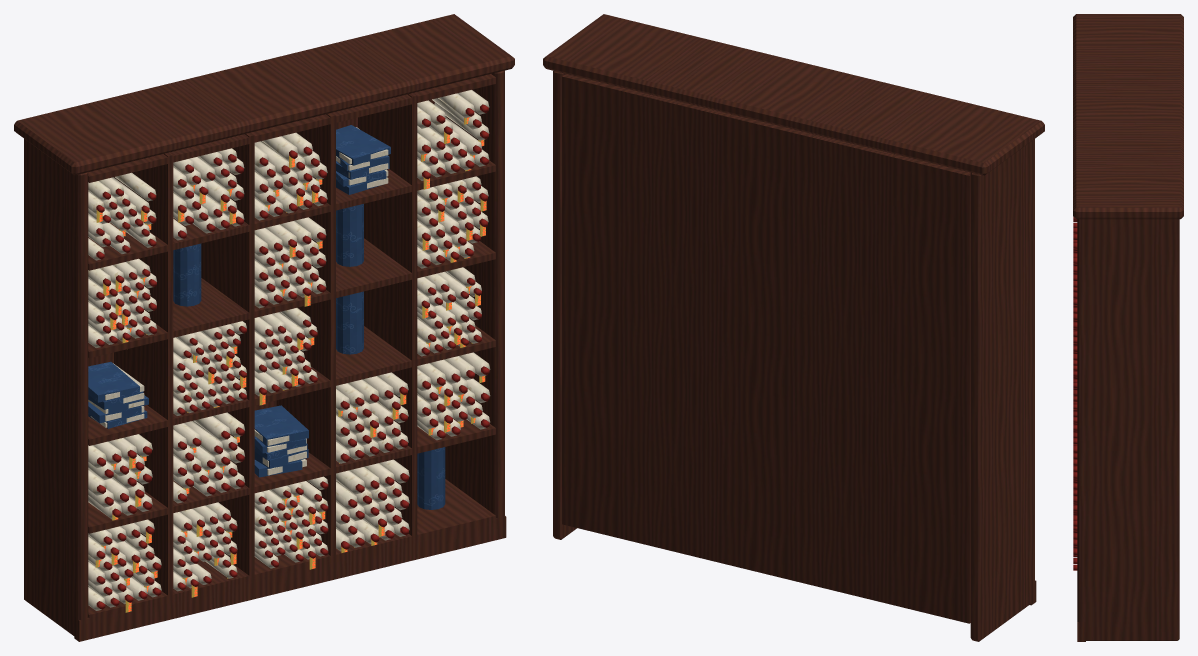
The model's file is scroll_rack.glb.
3 views of the same model, side by side, from view 1: azimuth 30°, elevation 25°; view 2: azimuth 150°, elevation 25°; view 3: azimuth 270°, elevation 25° (orthographic). The views are drawn at different scales.
Visible parts, largest first — view 1: RackFrame, Scrolls, ScrollKnobs, BookCovers, ScrollTags, BookPages; view 2: RackFrame; view 3: RackFrame, ScrollKnobs.
Boxes of the visible parts, x1=… form: RackFrame: x1=14, y1=14, x2=514, y2=641; Scrolls: x1=88, y1=90, x2=490, y2=610; ScrollKnobs: x1=96, y1=104, x2=489, y2=609; BookCovers: x1=88, y1=125, x2=445, y2=509; ScrollTags: x1=95, y1=117, x2=486, y2=612; BookPages: x1=88, y1=127, x2=388, y2=475; RackFrame: x1=543, y1=14, x2=1044, y2=641; RackFrame: x1=1073, y1=14, x2=1183, y2=641; ScrollKnobs: x1=1073, y1=217, x2=1077, y2=570.
Size of what is drawn, in the model's own units: 2.18 by 2.26 by 0.52.
5 materials, 5 textured.
